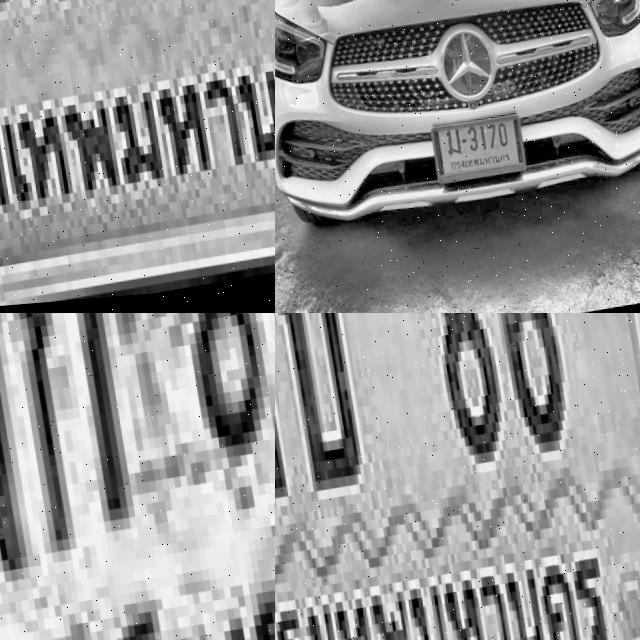license-plate: (275, 313, 640, 640), (0, 313, 275, 640), (0, 0, 275, 313), (420, 110, 518, 190)
